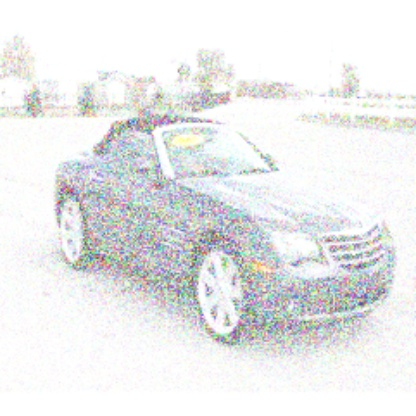Vehicle: (53, 113, 402, 346)
